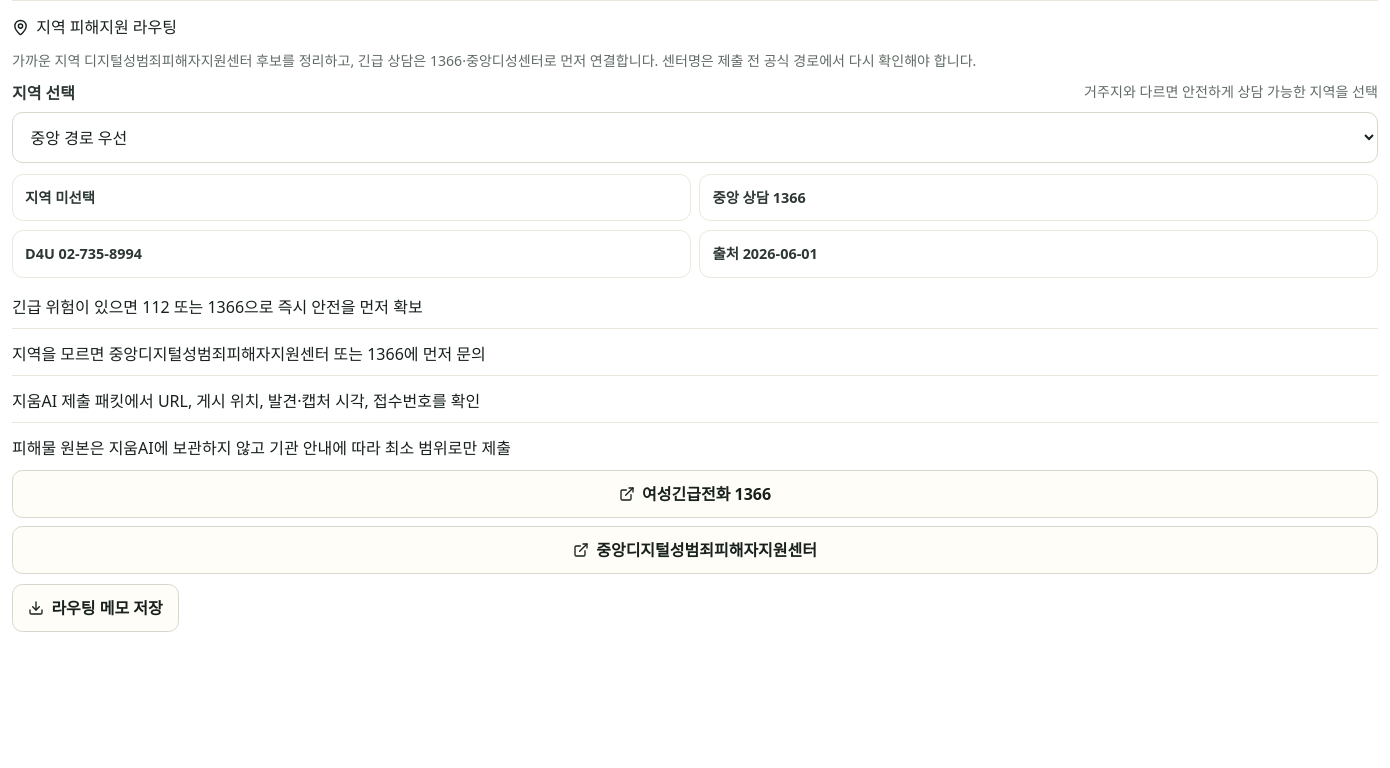
Test: RegionalSupportRouterPanel › shows central routes by default and selects a regional center
Check: the heading "지역 피해지원 라우팅" is shown, box [12,16,177,38]
Check: the text "D4U 02-735-8994" is shown, box [12,230,691,278]
Step 1. Select "서울" in the dropdown labelled "지역 선택 거주지와 다르면 안전하게 상담 가능한 지역을 선택" → coordinates (695, 138), box [12,112,1378,163]
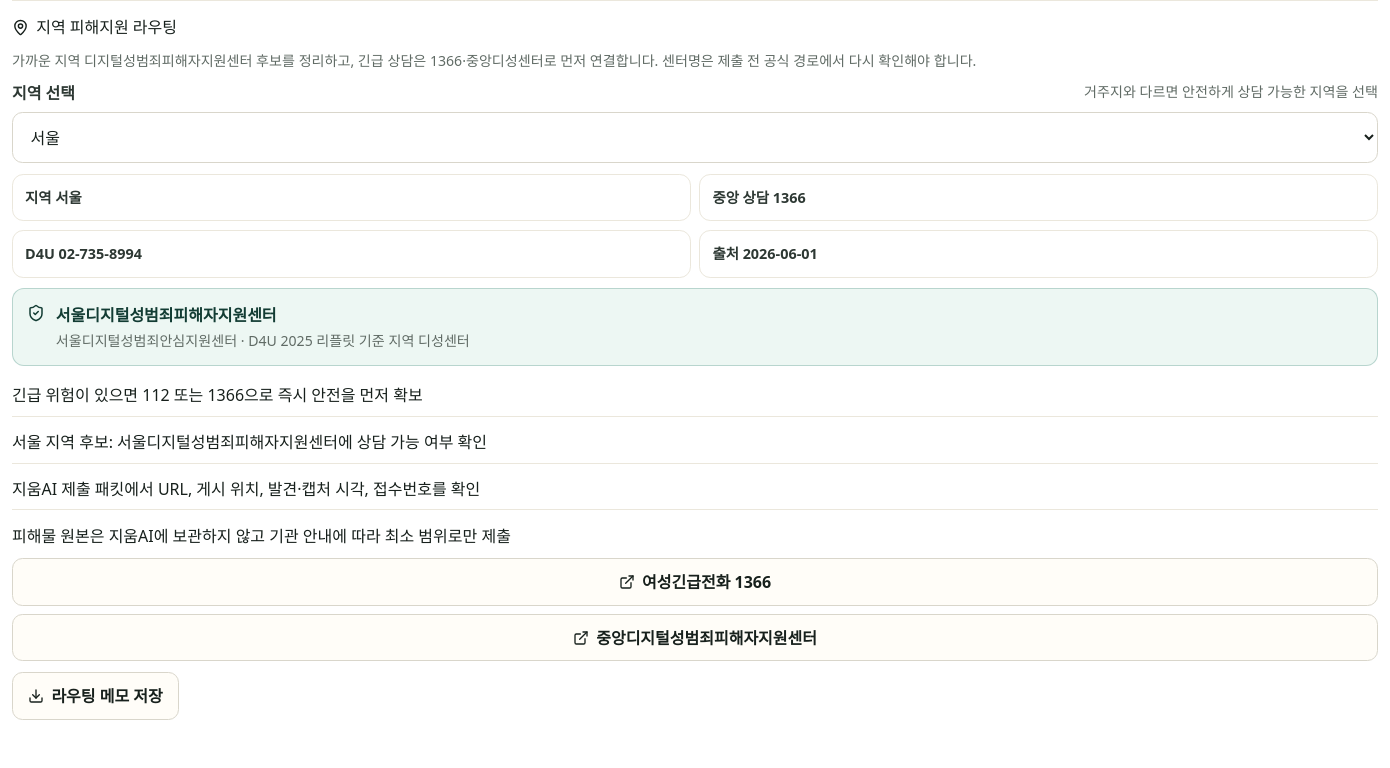
Check: the list item "긴급 위험이 있으면 112 또는 1366으로 즉시 안전을 먼저 확보" is shown, box [12,376,1378,417]
Check: the text "서울디지털성범죄피해자지원센터" is shown, box [56,304,277,326]
